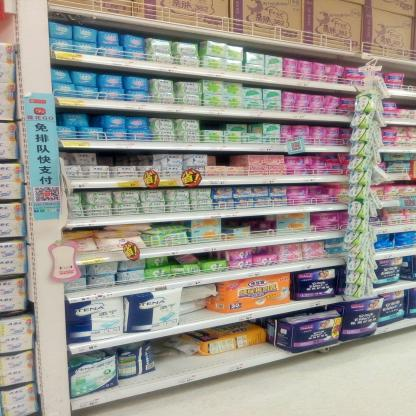Void: (98, 154, 146, 170), (159, 357, 204, 369), (221, 216, 261, 224), (214, 156, 238, 166), (198, 121, 223, 130), (197, 253, 216, 260)
